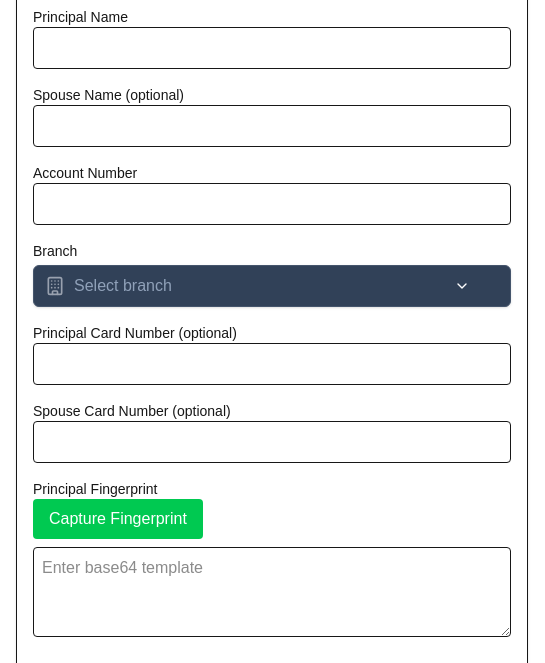
AccountRegistrationForm › validates required fields
The image size is (545, 663).
Fill required fields but not branch
Step 1. Type "John Doe" into the field below "Principal Name" → (272, 48), box top-left (33, 27), bottom-right (511, 69)
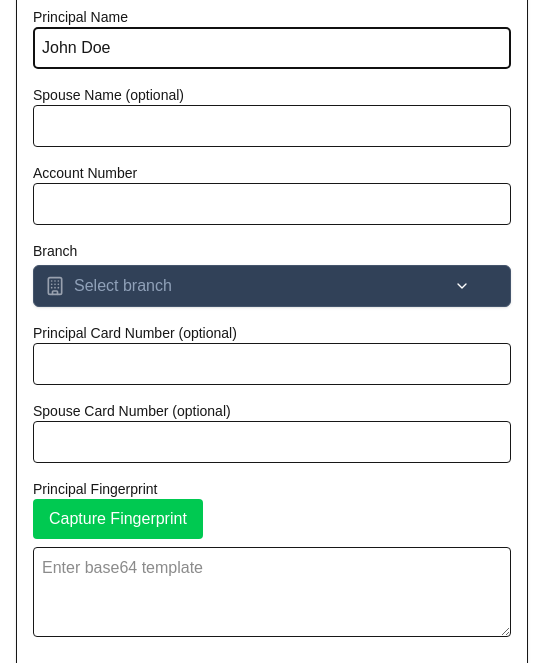
Step 2. Type "123456789" into the field below "Account Number" → (272, 204), box top-left (33, 183), bottom-right (511, 225)
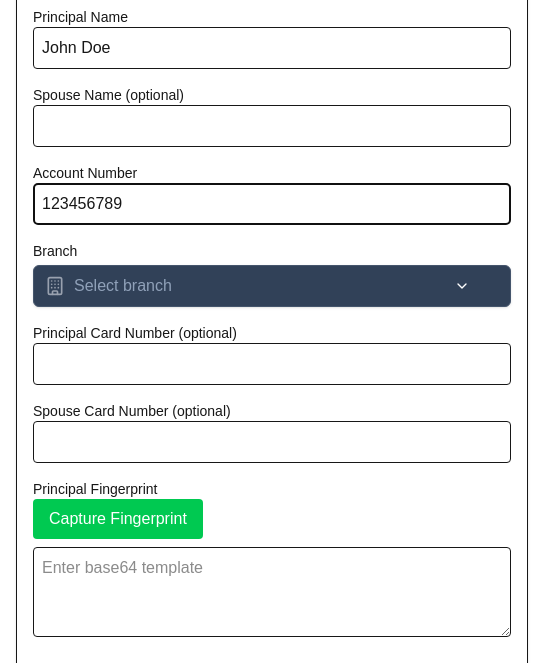
Step 3. Type "fingerprint-template" into the text box with placeholder "Enter base64 template" → (272, 592), box top-left (33, 547), bottom-right (511, 637)
(page scrolled)
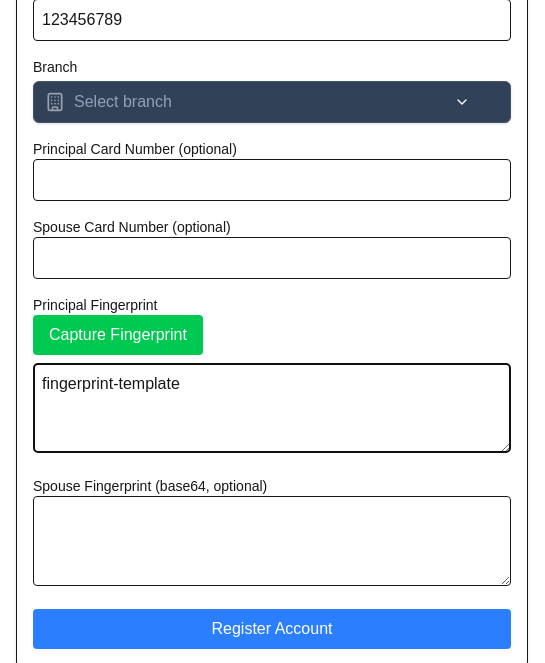
Step 4. Click the button "Register Account" → (272, 629), box top-left (33, 609), bottom-right (511, 649)
(page scrolled)
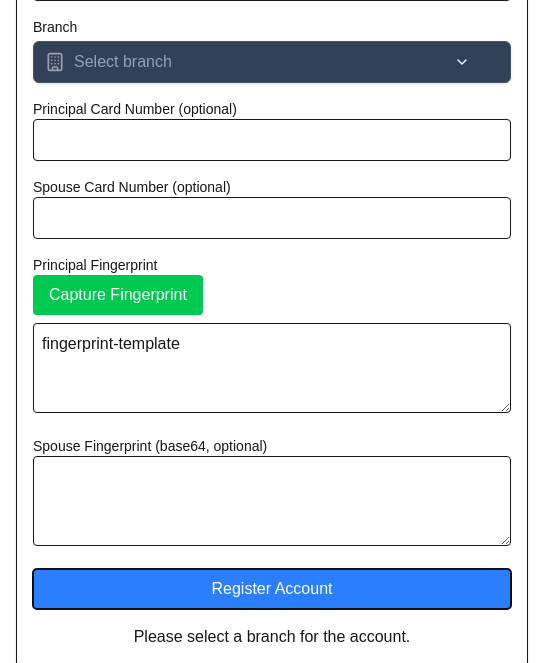
Expected: the text "Please select a branch for the account." is shown, top-left (134, 628), bottom-right (410, 645)
